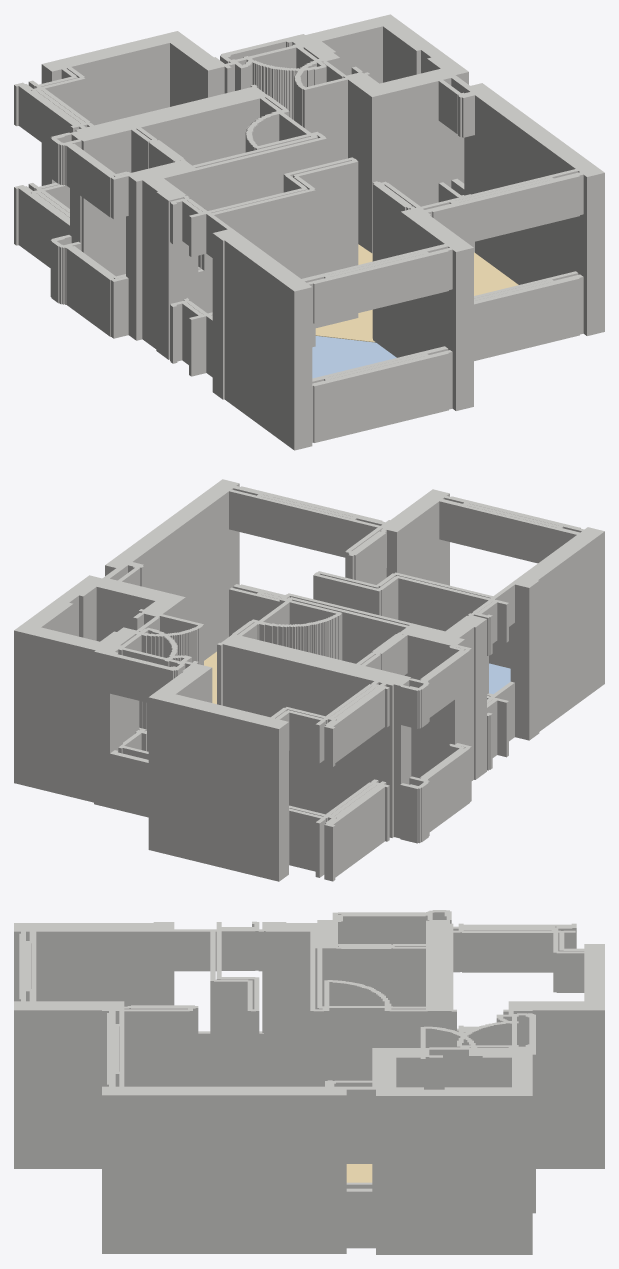
3 views of the same model, one above another, from view 1: azimuth 30°, elevation 25°; view 2: azimuth 150°, elevation 25°; view 3: azimuth 270°, elevation 25° (orthographic). The views are drawn at different scales.
Visible parts, largest first — view 1: walls, room:living:4, room:bedroom:5; view 2: walls; view 3: walls, room:living:4.
Part boxes in pixels (x1=…): walls: x1=14, y1=14, x2=604, y2=450; room:living:4: x1=315, y1=244, x2=518, y2=342; room:bedroom:5: x1=312, y1=336, x2=396, y2=378; walls: x1=14, y1=479, x2=604, y2=881; walls: x1=14, y1=910, x2=604, y2=1254; room:living:4: x1=346, y1=1164, x2=372, y2=1182.
Bounding box in the file's own units: 7.04 × 2.8 × 9.45.
